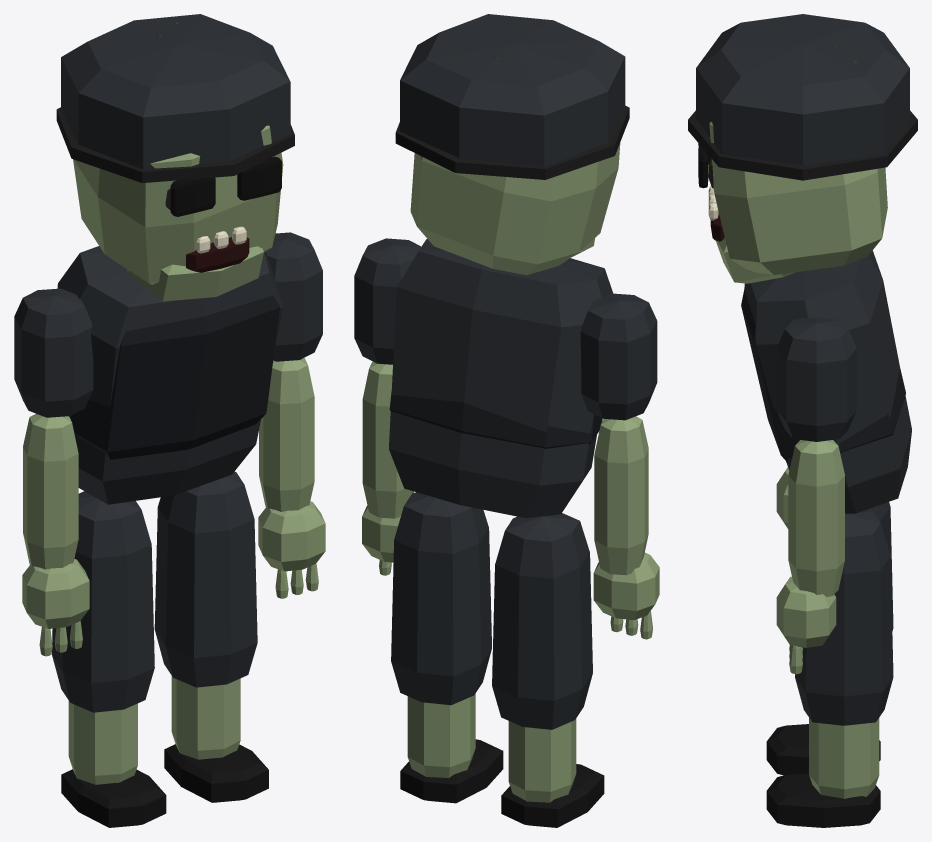
File: mon-cop-2.glb
The picture shows the model from 3 angles, left to right: view 1: azimuth 30°, elevation 25°; view 2: azimuth 150°, elevation 25°; view 3: azimuth 270°, elevation 25°; orthographic projection.
Parts seen in each view (by area): view 1: head, torso, leg-left, leg-right, arm-right, arm-left; view 2: head, torso, leg-right, leg-left, arm-right, arm-left; view 3: head, leg-left, arm-left, torso, leg-right, arm-right.
Boxes of the visible parts, x1,y1,x2,y2 form: head: (56, 14, 294, 301); torso: (57, 246, 283, 504); leg-left: (154, 471, 268, 802); leg-right: (52, 491, 166, 827); arm-right: (14, 288, 93, 656); arm-left: (258, 232, 325, 598); head: (395, 14, 629, 275); torso: (389, 239, 613, 518); leg-right: (492, 513, 604, 827); leg-left: (391, 492, 503, 803); arm-right: (580, 293, 659, 639); arm-left: (354, 238, 421, 575); head: (688, 14, 917, 283); leg-left: (766, 511, 893, 827); arm-left: (776, 317, 856, 674); torso: (741, 250, 911, 513); leg-right: (766, 502, 893, 775); arm-right: (776, 467, 789, 528).
Size of the model in its own units: 0.9745 by 2.4 by 0.6698.
